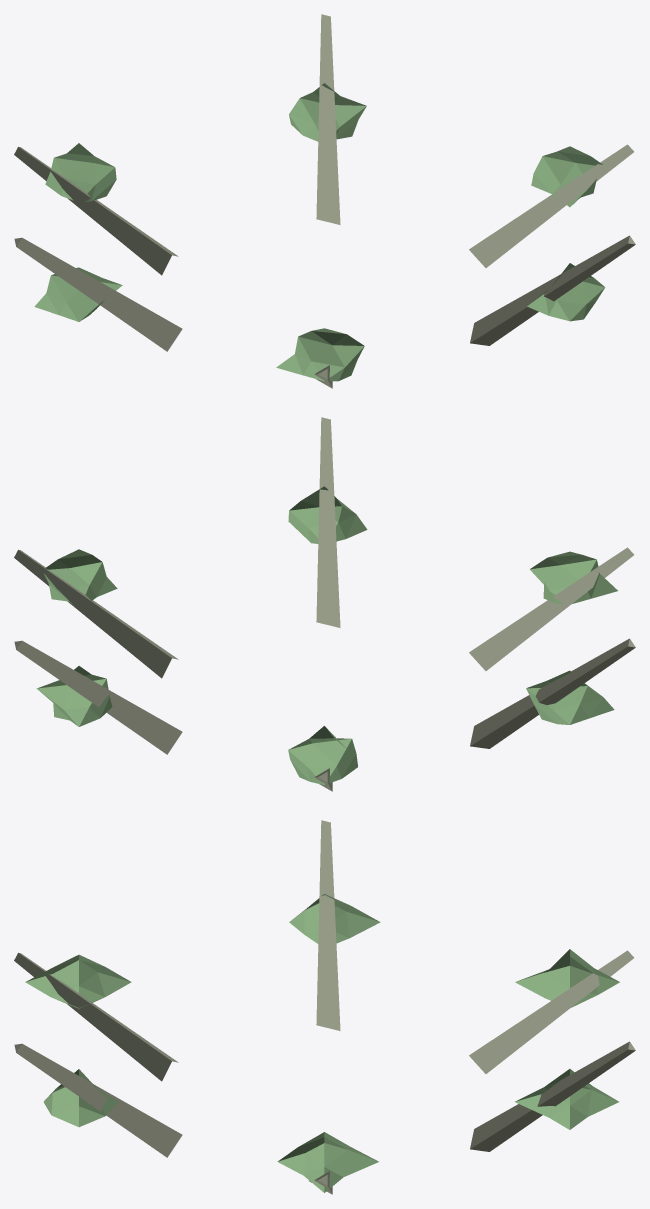
The model's file is bramble_v35.glb.
3 views of the same model, one above another, from view 1: azimuth 30°, elevation 25°; view 2: azimuth 150°, elevation 25°; view 3: azimuth 270°, elevation 25° (orthographic).
Parts seen in each view (by area): view 1: lod0; view 2: lod0; view 3: lod0.
Boxes of the visible parts, x1,y1,x2,y2 form: lod0: (14,14,635,388); lod0: (14,417,635,791); lod0: (14,820,635,1194).
Size of what is drawn, in the model's own units: 1.11 by 0.2562 by 0.9691.
